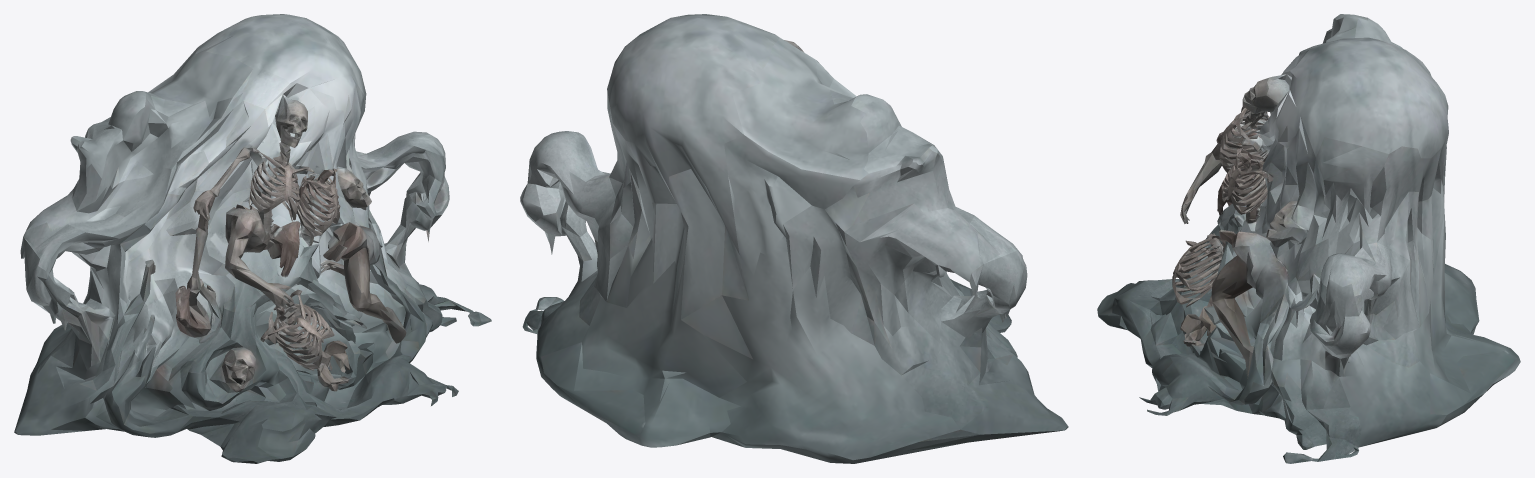
File: Espectro.glb
3 renders of one model, left to right at view 1: azimuth 30°, elevation 25°; view 2: azimuth 150°, elevation 25°; view 3: azimuth 270°, elevation 25°, orthographic. The views are drawn at different scales.
Parts seen in each view (by area): view 1: Espectro; view 2: Espectro; view 3: Espectro.
Part boxes in pixels (x1=…): Espectro: x1=14, y1=14, x2=491, y2=463; Espectro: x1=520, y1=14, x2=1068, y2=463; Espectro: x1=1097, y1=14, x2=1520, y2=463.
Size of the model in its own units: 1.9 by 1.21 by 1.43.
1 material, 1 textured.
